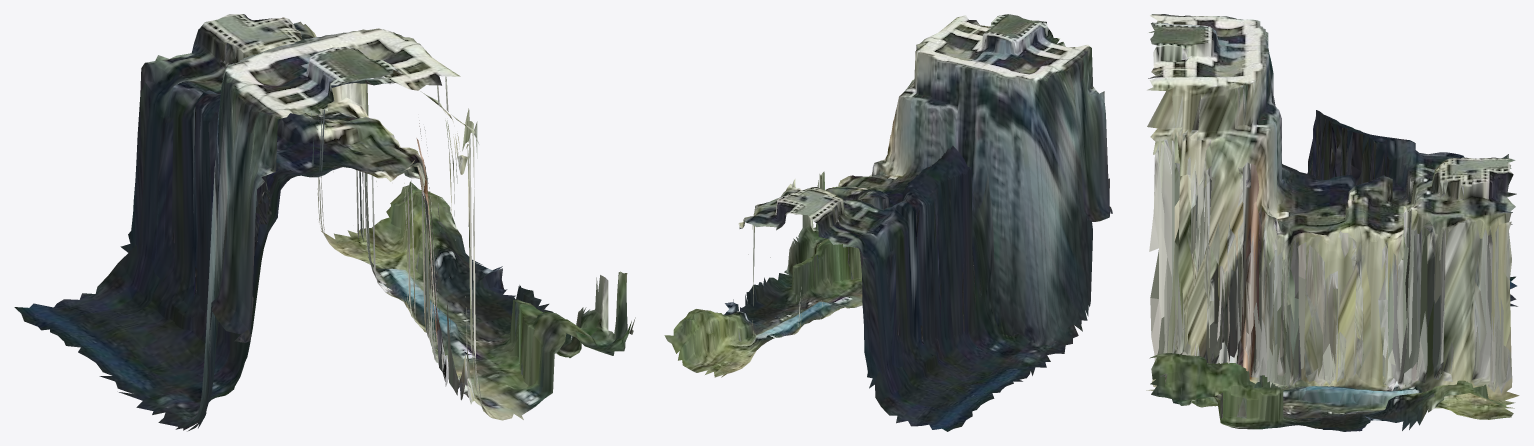
The model's file is Tile_001_002_L14_432.glb.
3 renders of one model, left to right at view 1: azimuth 30°, elevation 25°; view 2: azimuth 150°, elevation 25°; view 3: azimuth 270°, elevation 25°, orthographic. The views are drawn at different scales.
Visible parts, largest first — view 1: rtc; view 2: rtc; view 3: rtc.
Part boxes in pixels (left/top/right/bottom): rtc: left=14, top=14, right=635, bottom=431; rtc: left=664, top=14, right=1112, bottom=431; rtc: left=1146, top=14, right=1519, bottom=431.
Size of the model in its own units: 70.63 by 63.55 by 71.12.
1 material, 1 textured.
